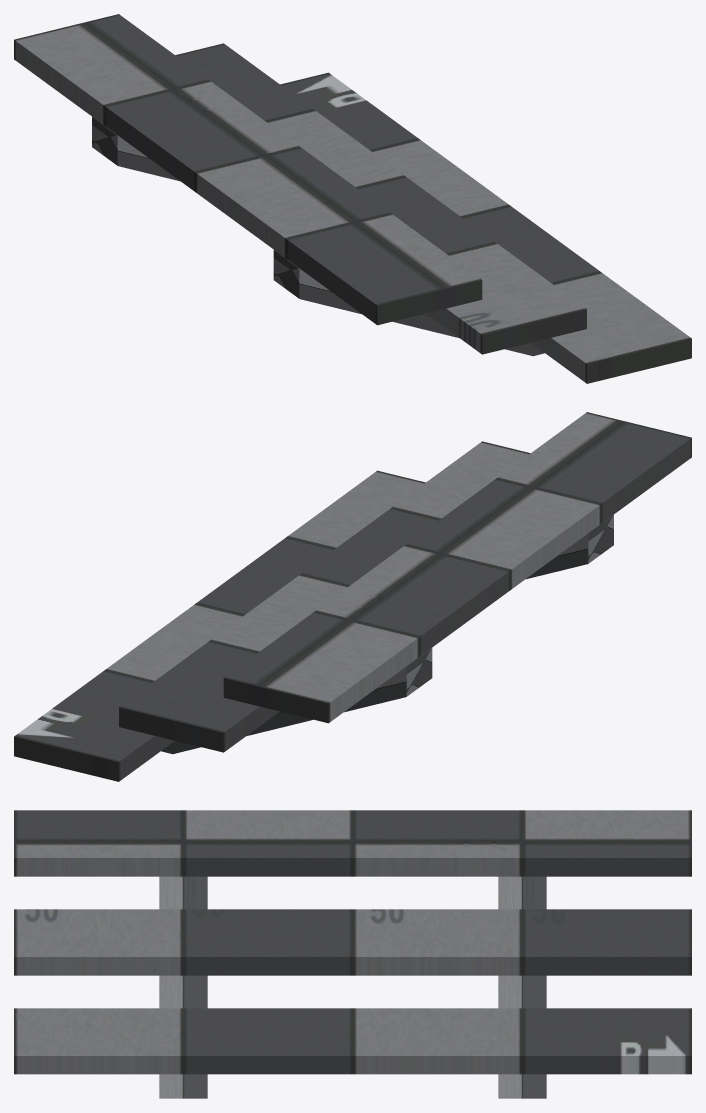
Rendered from SM_dev_stairs_200_100_50.fbx.
3 renders of one model, top to bottom at view 1: azimuth 30°, elevation 25°; view 2: azimuth 150°, elevation 25°; view 3: azimuth 270°, elevation 25°, orthographic. The views are drawn at different scales.
Parts seen in each view (by area): view 1: pCube10; view 2: pCube10; view 3: pCube10.
Boxes of the visible parts, bbox=[...] form: pCube10: bbox=[14, 14, 691, 383]; pCube10: bbox=[14, 412, 691, 781]; pCube10: bbox=[14, 810, 691, 1098].
Bounding box in the file's own units: 1 × 0.5 × 2.
